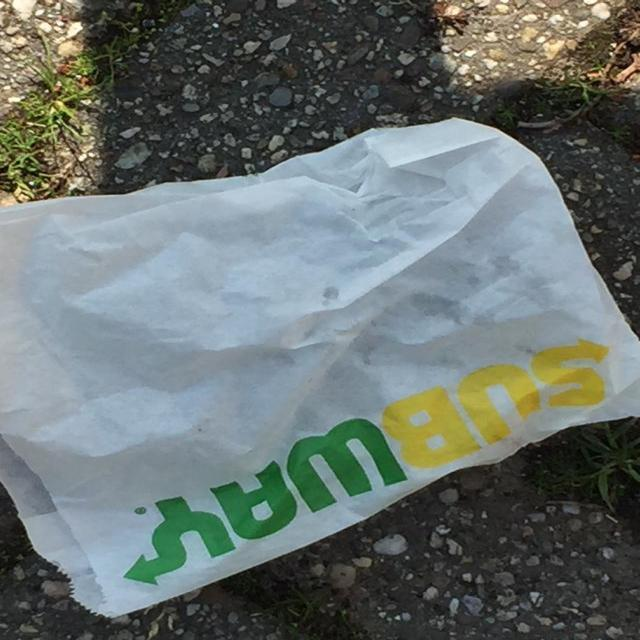Paper: (1, 116, 638, 620)
